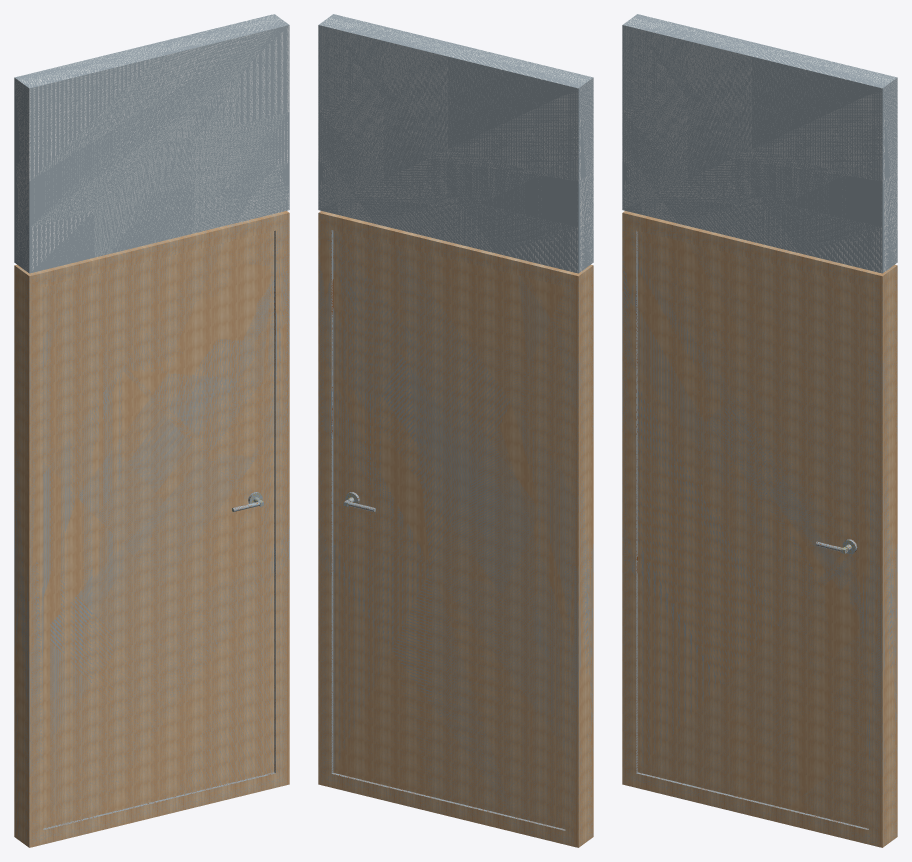
File: porta.obj
3 views of the same model, side by side, from view 1: azimuth 30°, elevation 25°; view 2: azimuth 150°, elevation 25°; view 3: azimuth 330°, elevation 25° (orthographic).
Parts seen in each view (by area): view 1: Mesh1 Model, Mesh3 Model; view 2: Mesh1 Model, Mesh3 Model; view 3: Mesh1 Model, Mesh3 Model.
Boxes of the visible parts, bbox=[...] form: Mesh1 Model: bbox=[14, 211, 289, 847]; Mesh3 Model: bbox=[14, 14, 289, 273]; Mesh1 Model: bbox=[318, 211, 593, 847]; Mesh3 Model: bbox=[318, 14, 593, 273]; Mesh1 Model: bbox=[622, 211, 897, 847]; Mesh3 Model: bbox=[622, 14, 897, 273].
Size of the model in its own units: 1 by 2.79 by 0.18.
6 materials, 3 textured.
